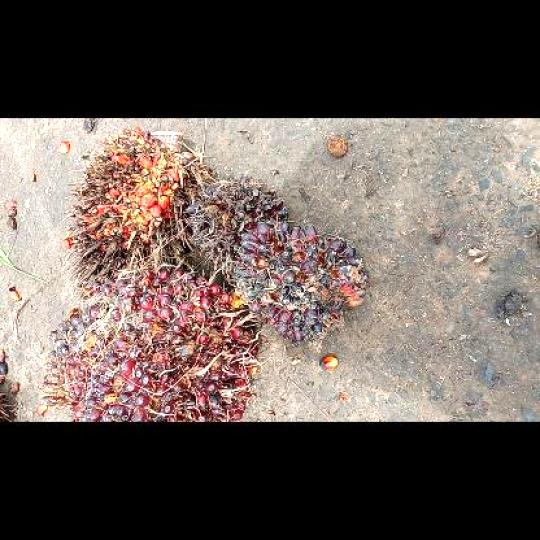masak: (40, 260, 262, 420)
terlalu masak: (60, 128, 212, 293)
